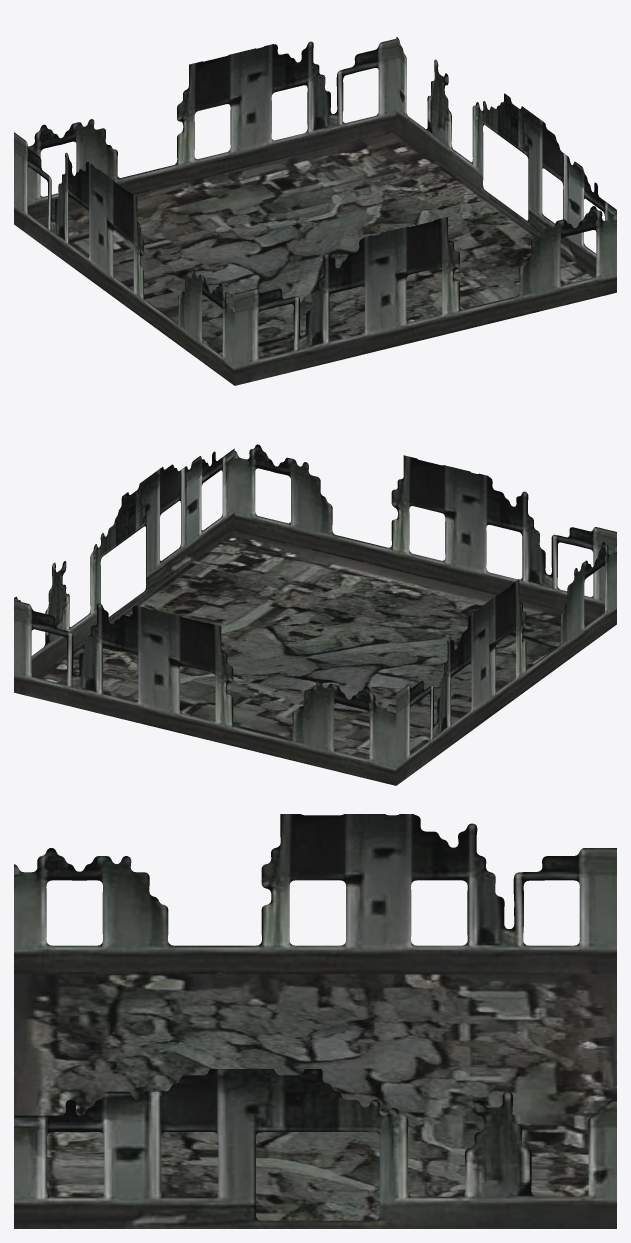
The model's file is city6storyb_dam_hdtex.glb.
3 renders of one model, top to bottom at view 1: azimuth 30°, elevation 25°; view 2: azimuth 150°, elevation 25°; view 3: azimuth 270°, elevation 25°, orthographic. The views are drawn at different scales.
Parts seen in each view (by area): view 1: City2StoryA; view 2: City2StoryA; view 3: City2StoryA.
Boxes of the visible parts, x1,y1,x2,y2 form: City2StoryA: (14, 37, 616, 385); City2StoryA: (14, 444, 616, 785); City2StoryA: (14, 814, 616, 1228).
Bounding box in the file's own units: 17.76 × 5.2 × 17.76.
1 material, 1 textured.
